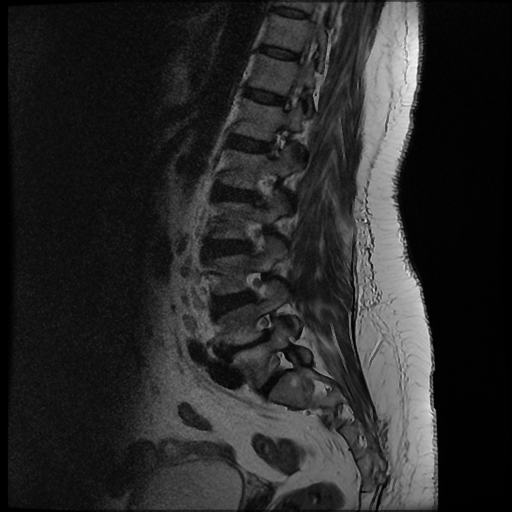LFS0: (236, 261, 277, 310)
LFS2: (244, 306, 285, 352)
